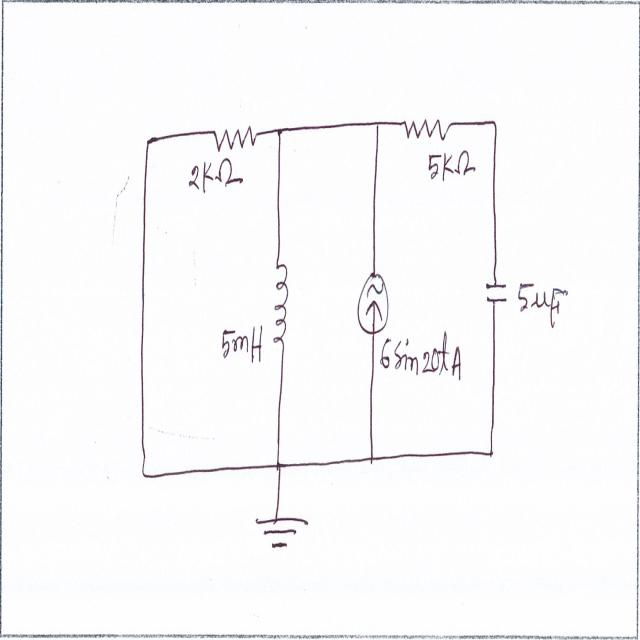capacitor: (482, 277, 509, 315)
current_source: (354, 262, 390, 341)
ground: (252, 508, 310, 553)
inductor: (270, 260, 289, 360)
resistor: (212, 122, 261, 162), (401, 114, 451, 149)
